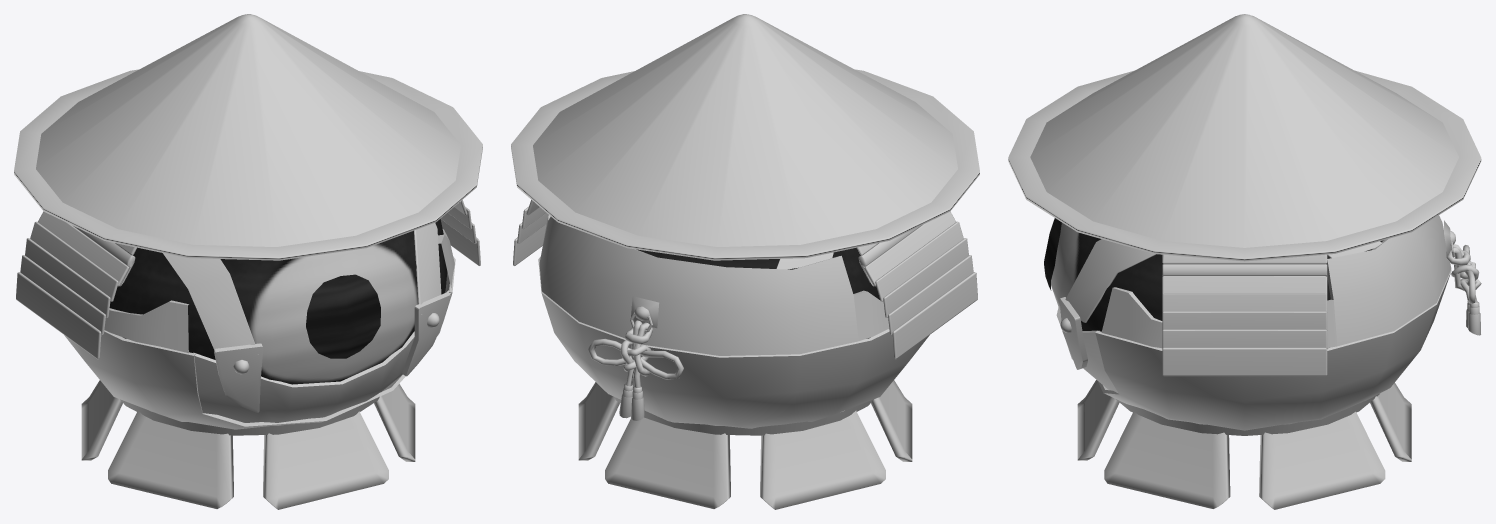
Rendered from yoroibukurokun_ex.fbx.
3 views of the same model, side by side, from view 1: azimuth 30°, elevation 25°; view 2: azimuth 150°, elevation 25°; view 3: azimuth 270°, elevation 25° (orthographic).
Visible parts, largest first — view 1: polySurface129, polySurface18; view 2: polySurface129, polySurface18; view 3: polySurface129, polySurface18.
Boxes of the visible parts, x1,y1,x2,y2 form: polySurface129: (14, 14, 482, 509); polySurface18: (109, 219, 447, 384); polySurface129: (511, 14, 979, 509); polySurface18: (636, 247, 880, 338); polySurface129: (1008, 14, 1481, 509); polySurface18: (1044, 218, 1383, 348).
Size of the model in its own units: 57.31 by 56.24 by 57.37.
